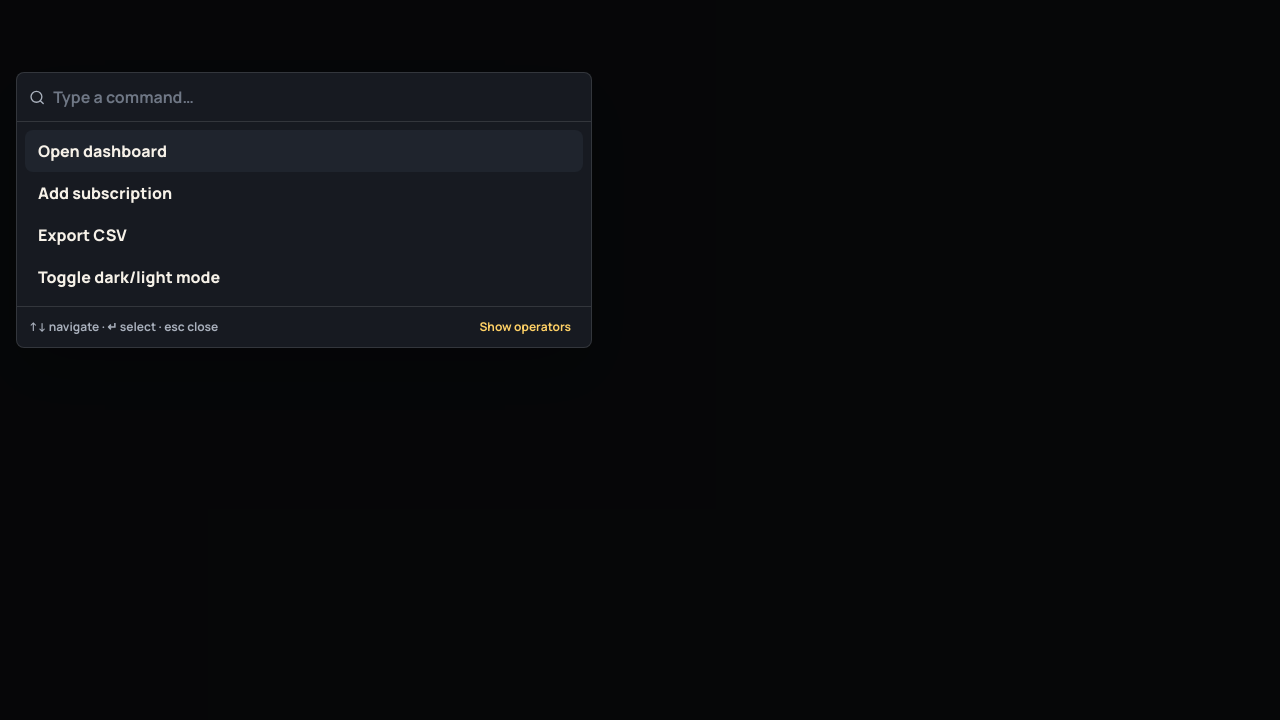
Test: CommandPalette component › filters the option list by typed query
Type "export" into the search field named "search commands" at (316, 97), box [53,85,579,109]
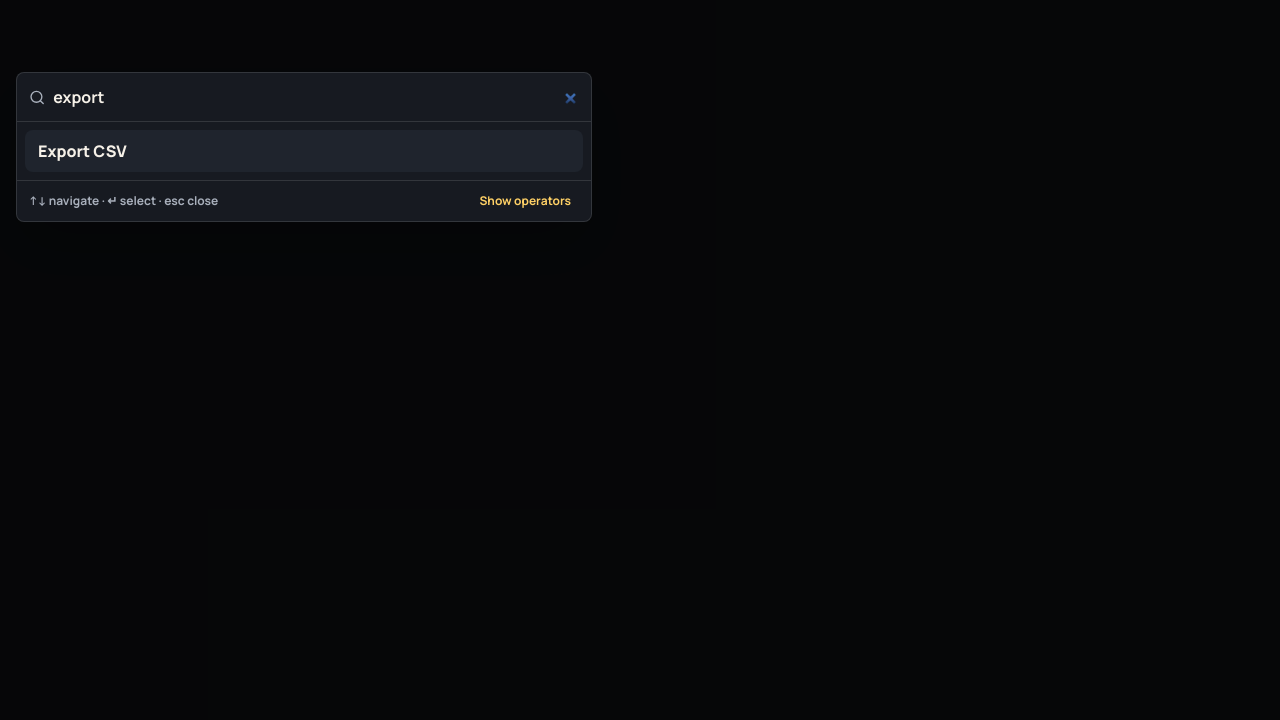
Expected: the option reads "Export CSV", [25,130,583,172]
Expected: the number of options is 1, [25,130,583,172]
